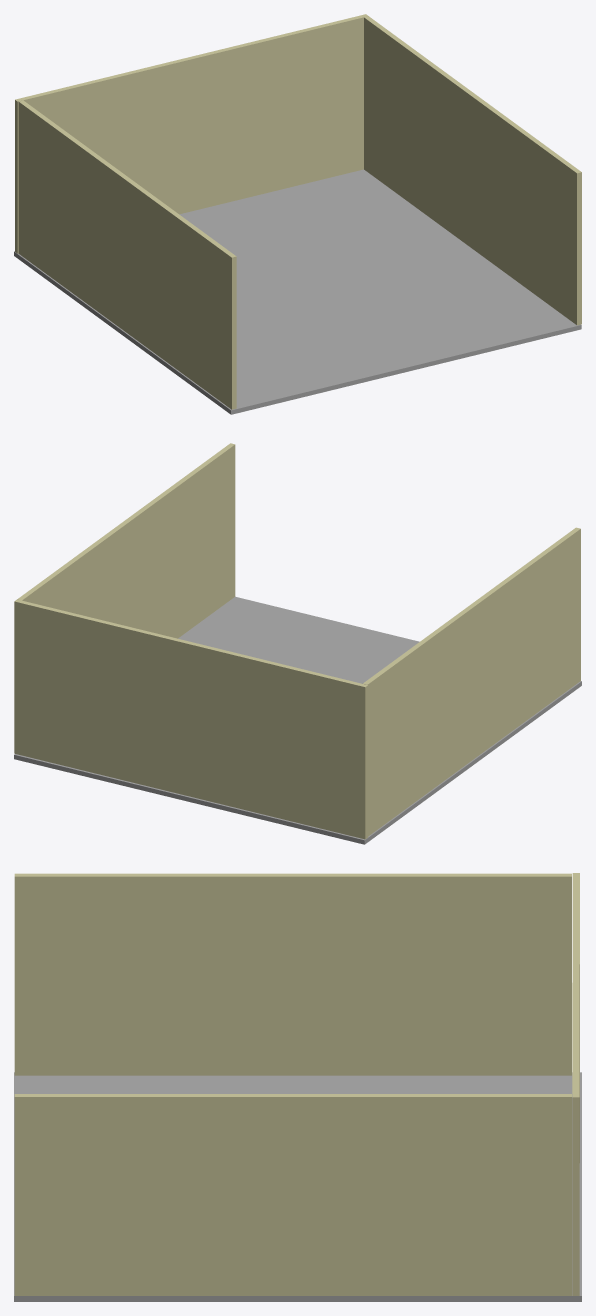
The model's file is Habitacion.fbx.
3 views of the same model, one above another, from view 1: azimuth 30°, elevation 25°; view 2: azimuth 150°, elevation 25°; view 3: azimuth 270°, elevation 25° (orthographic). The views are drawn at different scales.
Visible parts, largest first — view 1: pCube3, pCube6, pCube4, pCube5; view 2: pCube6, pCube4, pCube5, pCube3; view 3: pCube4, pCube5, pCube3, pCube6.
Boxes of the visible parts, left/top/right/bottom form: pCube3: left=14, top=169, right=581, bottom=414; pCube6: left=15, top=14, right=368, bottom=253; pCube4: left=18, top=100, right=236, bottom=409; pCube5: left=364, top=16, right=581, bottom=325; pCube6: left=14, top=599, right=368, bottom=839; pCube4: left=363, top=527, right=580, bottom=835; pCube5: left=17, top=443, right=235, bottom=638; pCube3: left=14, top=596, right=581, bottom=844; pCube4: left=14, top=873, right=571, bottom=1075; pCube5: left=14, top=1094, right=571, bottom=1295; pCube3: left=14, top=1072, right=581, bottom=1301; pCube6: left=572, top=873, right=579, bottom=1295.
Bounding box in the file's own units: 15.38 × 6.57 × 16.48.
